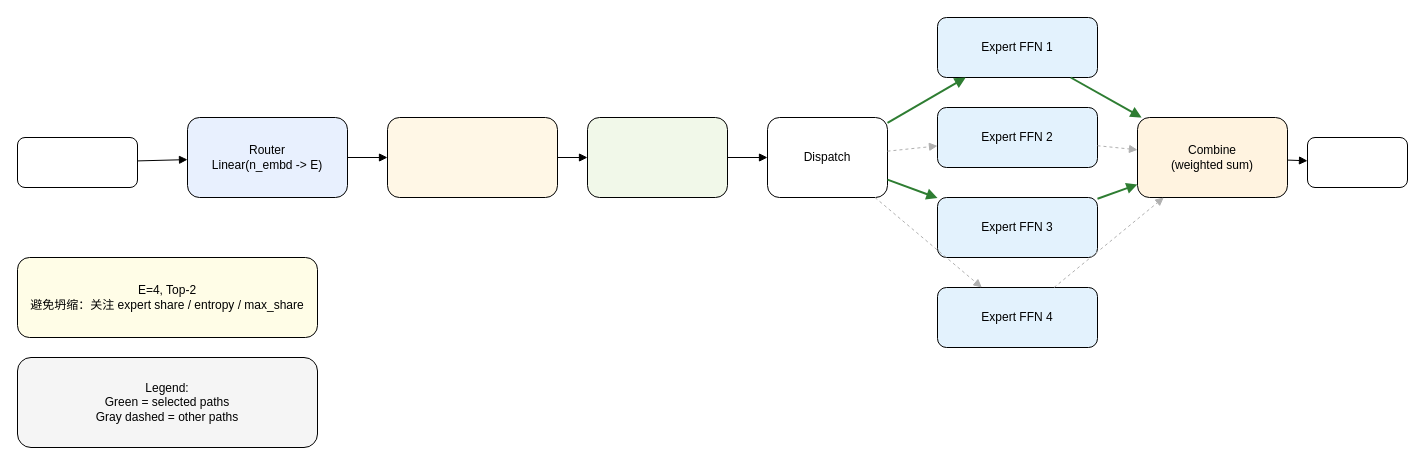
Image size: 1425x465. Some labels were removed from this diagram. The centre of each missing label's shape, as x and y in pixels:
"Input token x" goes at point 77,162.
"Output" goes at point 1357,162.
"Softmax probabilities over E" goes at point 472,157.
"Top-2 gating" goes at point 657,157.
